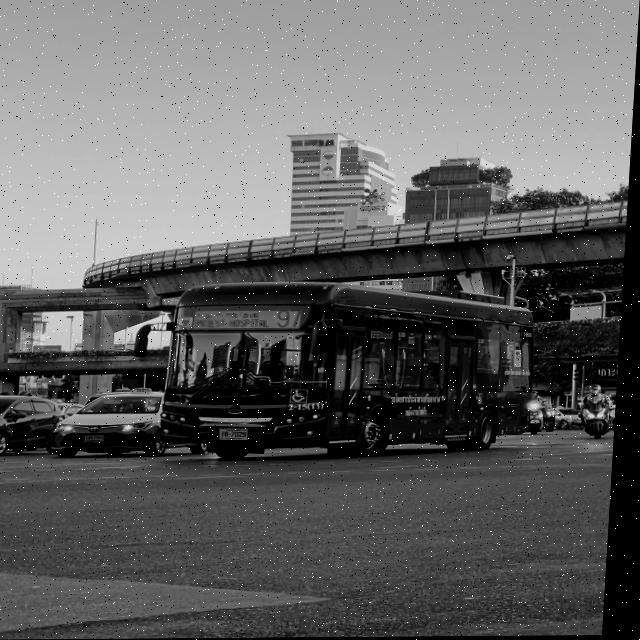Bus-Line-Number: (279, 307, 308, 330)
Destination-Sign-Normal: (196, 306, 280, 330)
TSB-Bus: (162, 281, 541, 462)
